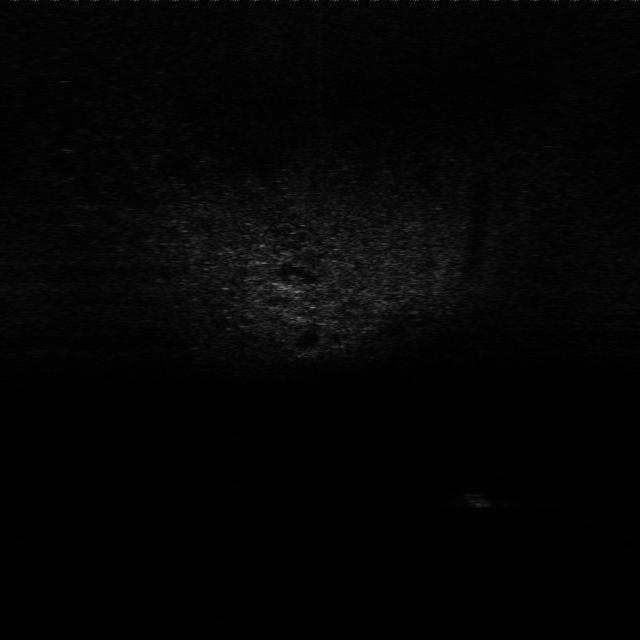cylinder: (466, 488, 498, 513)
